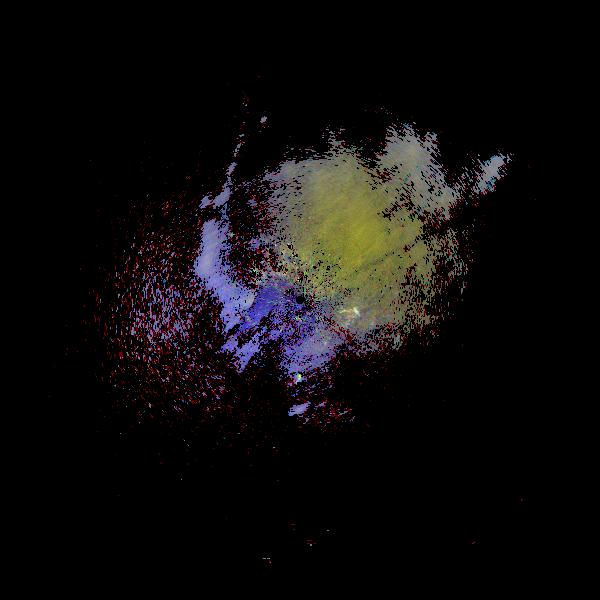roost: (342, 303, 363, 324), (293, 373, 305, 385)
